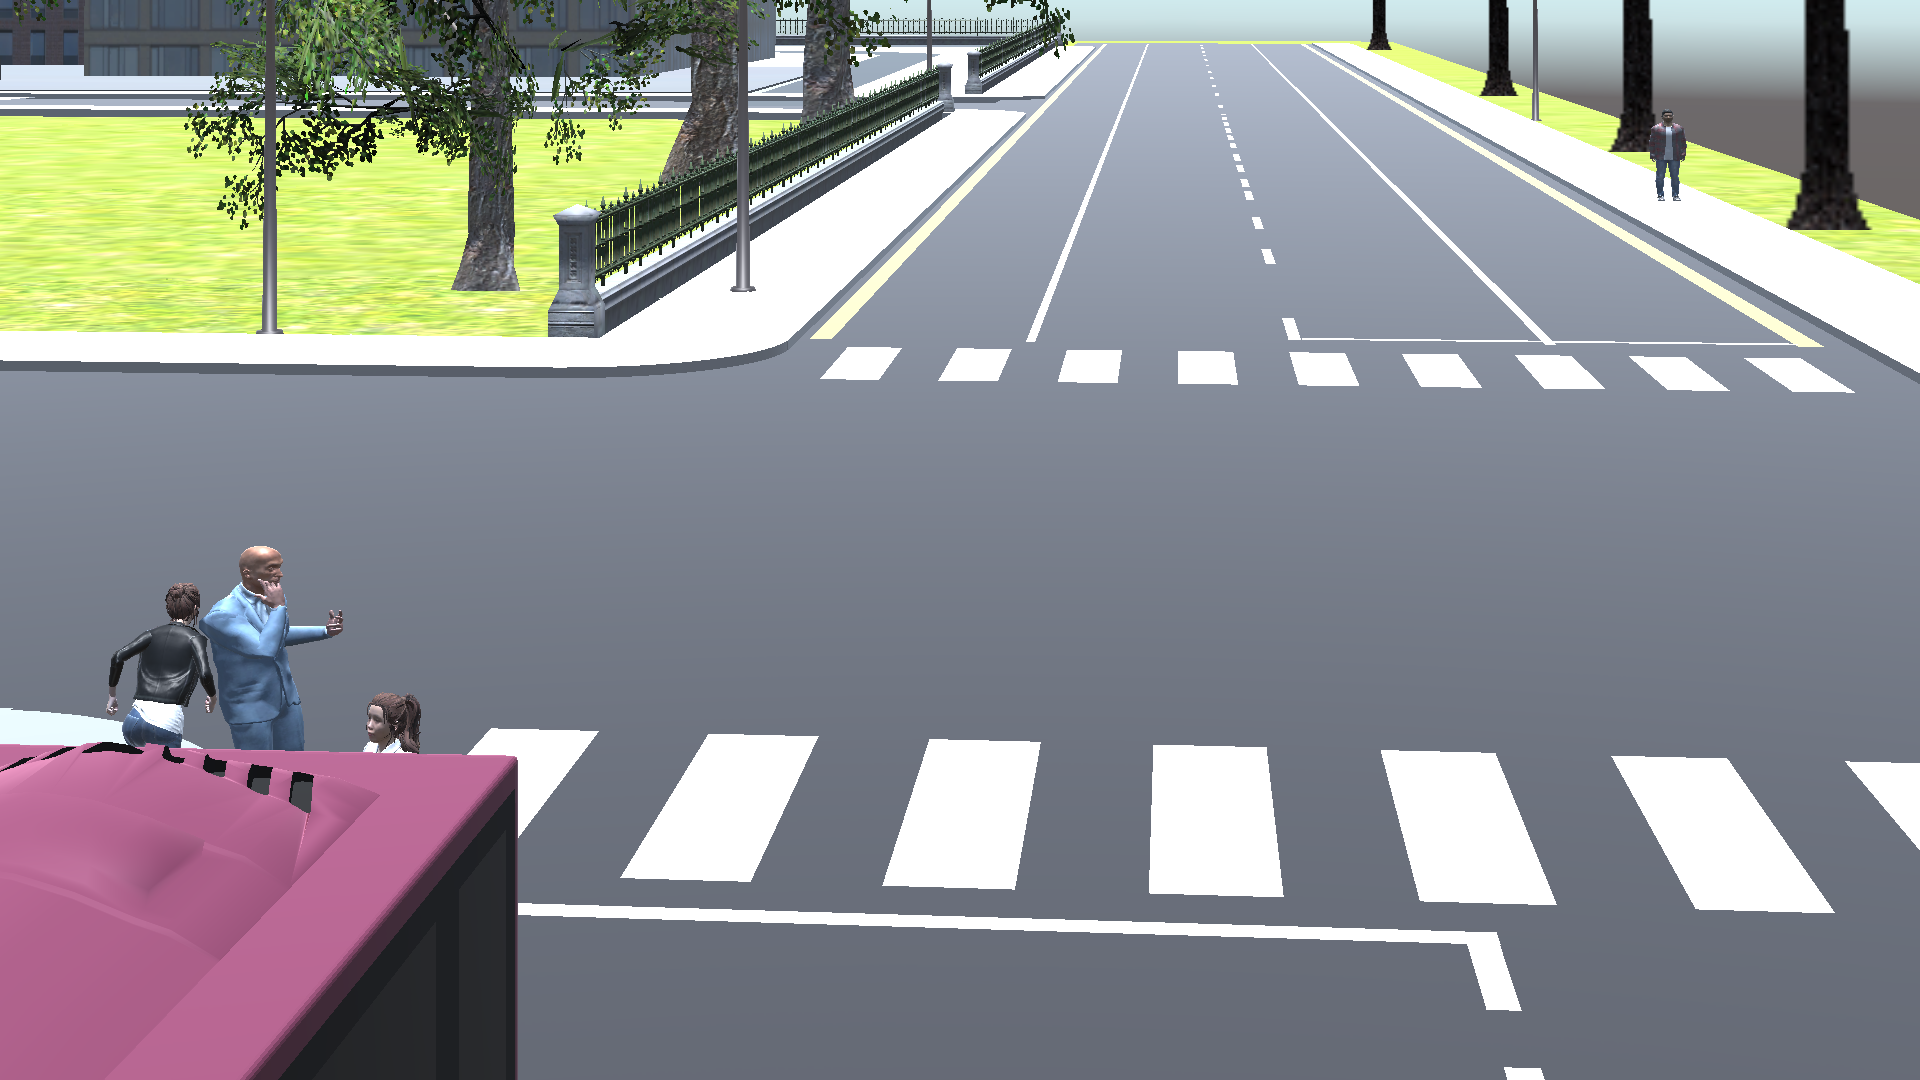pedestrian: (203, 545, 344, 750), (93, 572, 217, 732), (1641, 106, 1691, 213), (358, 694, 426, 754)
